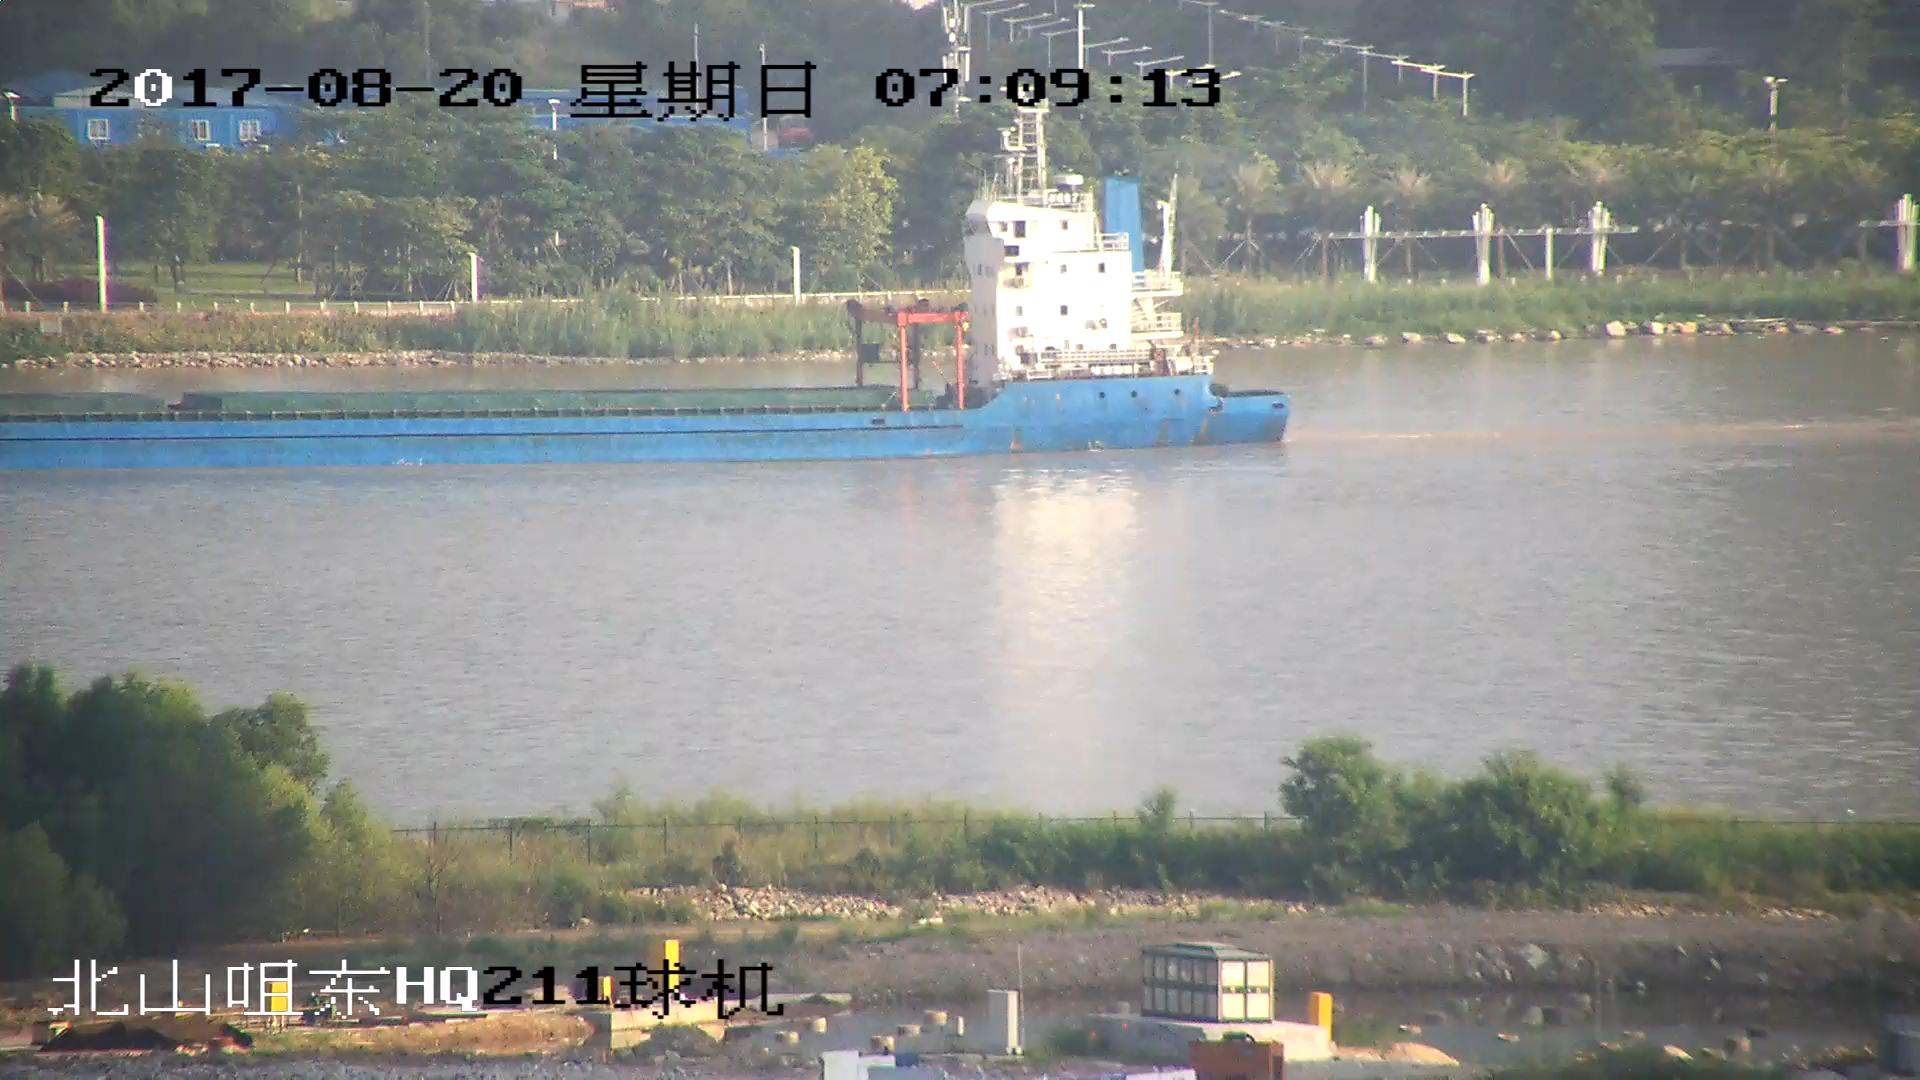general cargo ship: (1, 141, 1297, 472)
